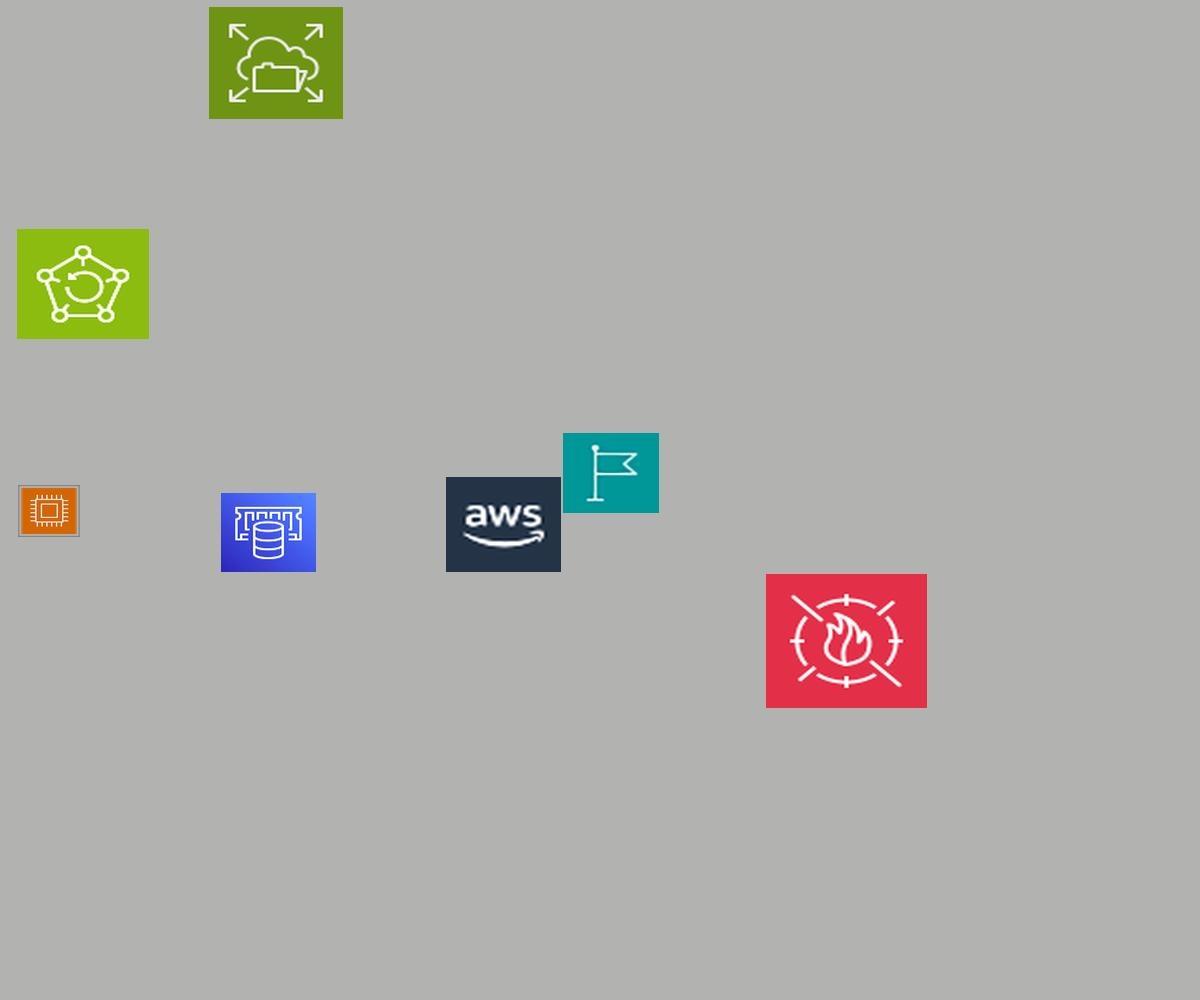AWS-Backup: (17, 229, 149, 339)
AWS-Category_Compute: (18, 485, 80, 537)
AWS-Cloud-logo: (446, 477, 561, 572)
AWS-EFS: (209, 7, 343, 119)
AWS-ElastiCache: (221, 493, 316, 572)
AWS-Region: (563, 433, 659, 513)
AWS-WAF: (766, 574, 927, 708)
